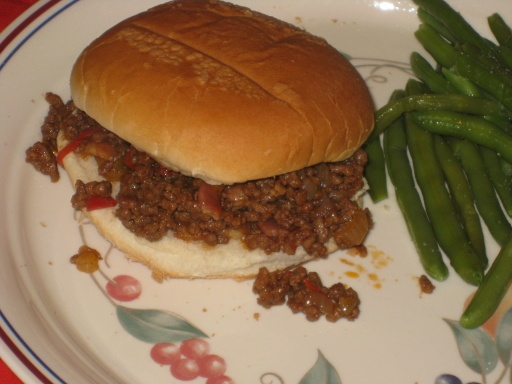background: (19, 0, 409, 198)
